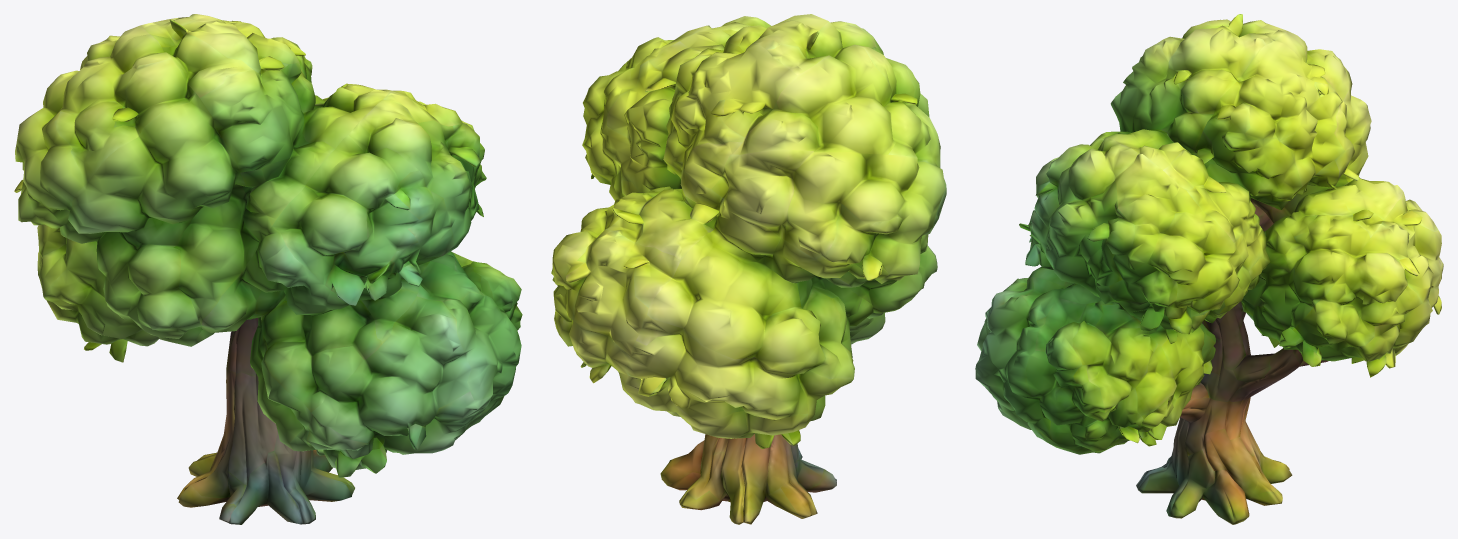
Rendered from oak-mid.glb.
3 views of the same model, side by side, from view 1: azimuth 30°, elevation 25°; view 2: azimuth 150°, elevation 25°; view 3: azimuth 270°, elevation 25° (orthographic). The views are drawn at different scales.
Parts seen in each view (by area): view 1: tripo_node_5c9d3df0-1abe-4f49-986a-10d224479850; view 2: tripo_node_5c9d3df0-1abe-4f49-986a-10d224479850; view 3: tripo_node_5c9d3df0-1abe-4f49-986a-10d224479850.
Part boxes in pixels (x1,y1,x2,y2): tripo_node_5c9d3df0-1abe-4f49-986a-10d224479850: (14, 14, 522, 524); tripo_node_5c9d3df0-1abe-4f49-986a-10d224479850: (551, 14, 946, 524); tripo_node_5c9d3df0-1abe-4f49-986a-10d224479850: (975, 14, 1443, 524).
Bounding box in the file's own units: 0.8472 × 0.9973 × 0.9582.
Materials: 1 (1 with a texture image).
